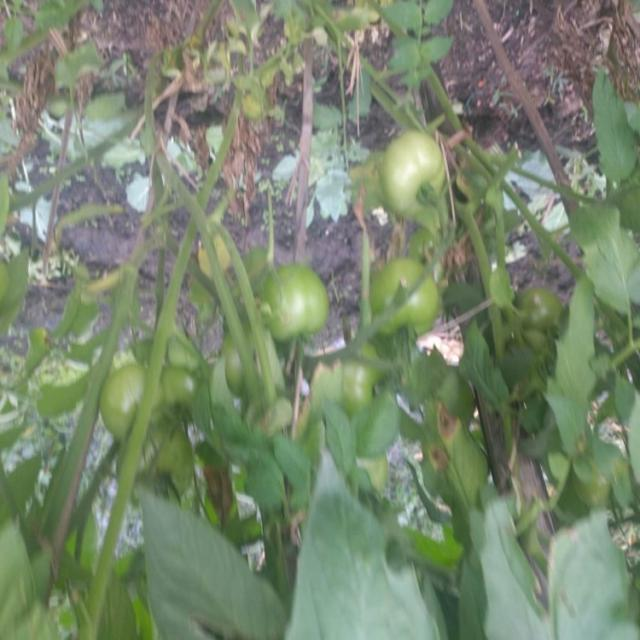tomato: (363, 252, 454, 361), (87, 352, 197, 442), (365, 121, 458, 225), (249, 263, 328, 340), (141, 435, 195, 501), (508, 285, 557, 345)
